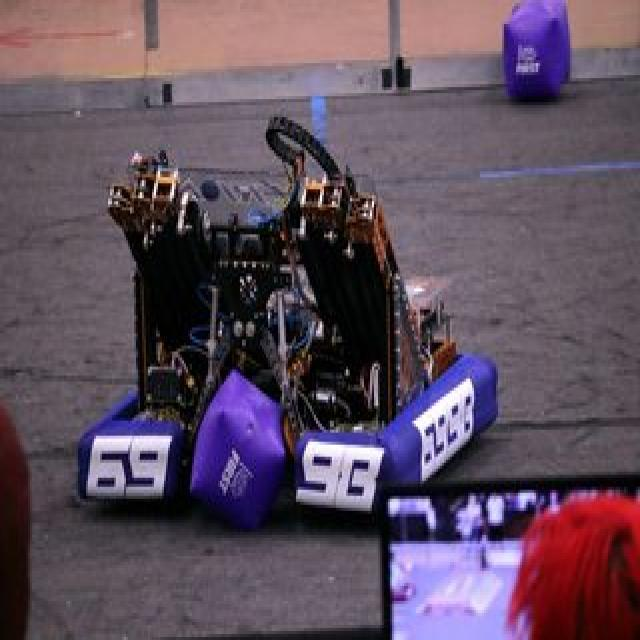robot: (67, 110, 490, 532)
